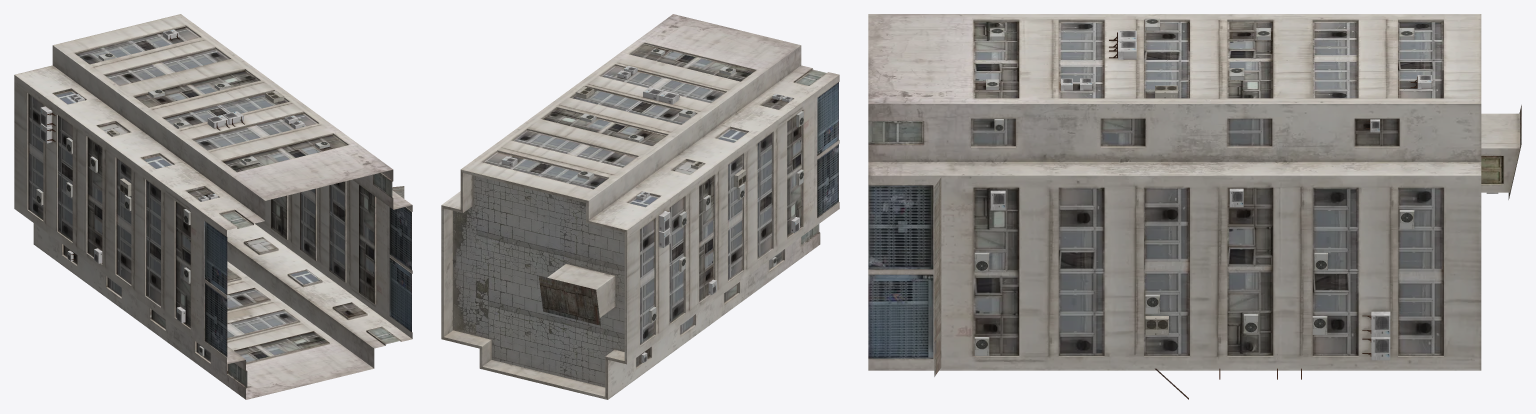
Rendered from city-block.glb.
The picture shows the model from 3 angles, left to right: view 1: azimuth 30°, elevation 25°; view 2: azimuth 150°, elevation 25°; view 3: azimuth 270°, elevation 25°; orthographic projection. The views are drawn at different scales.
Visible parts, largest first — view 1: Asian_Block; view 2: Asian_Block; view 3: Asian_Block.
Boxes of the visible parts, x1,y1,x2,y2 form: Asian_Block: (14, 14, 412, 399); Asian_Block: (441, 14, 839, 399); Asian_Block: (868, 14, 1521, 399).
Size of the model in its own units: 14.04 by 13.43 by 26.8.
Materials: 1 (1 with a texture image).
